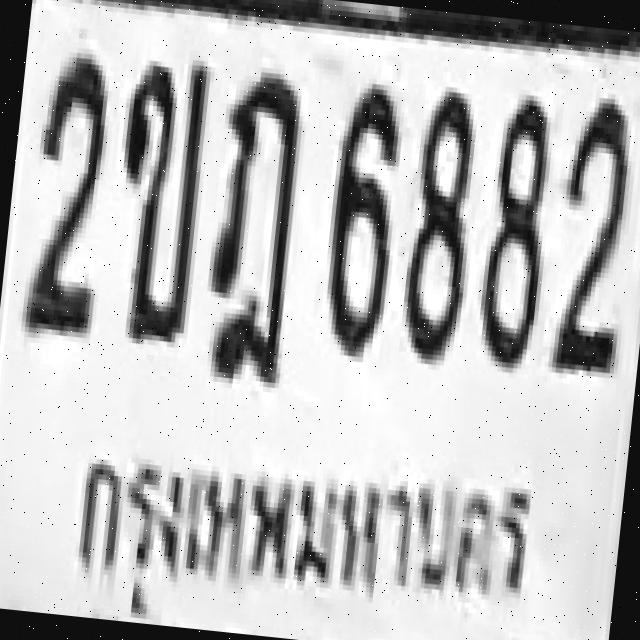2: (19, 79, 114, 338), (545, 117, 637, 376), (548, 157, 634, 376)
23DorChaDa: (198, 71, 310, 385)
6: (317, 76, 407, 359)
8: (472, 92, 558, 370), (398, 86, 483, 364)
Bangkok: (47, 414, 548, 640)
